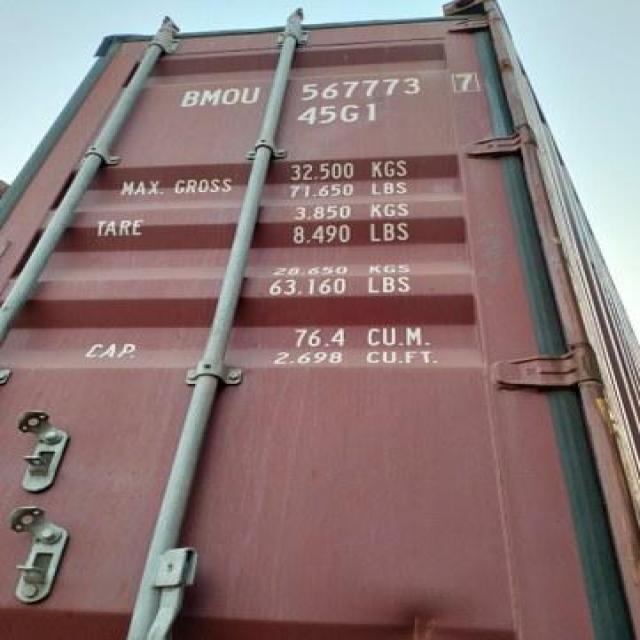ISO: (286, 98, 386, 130)
container_number: (169, 71, 477, 110)
